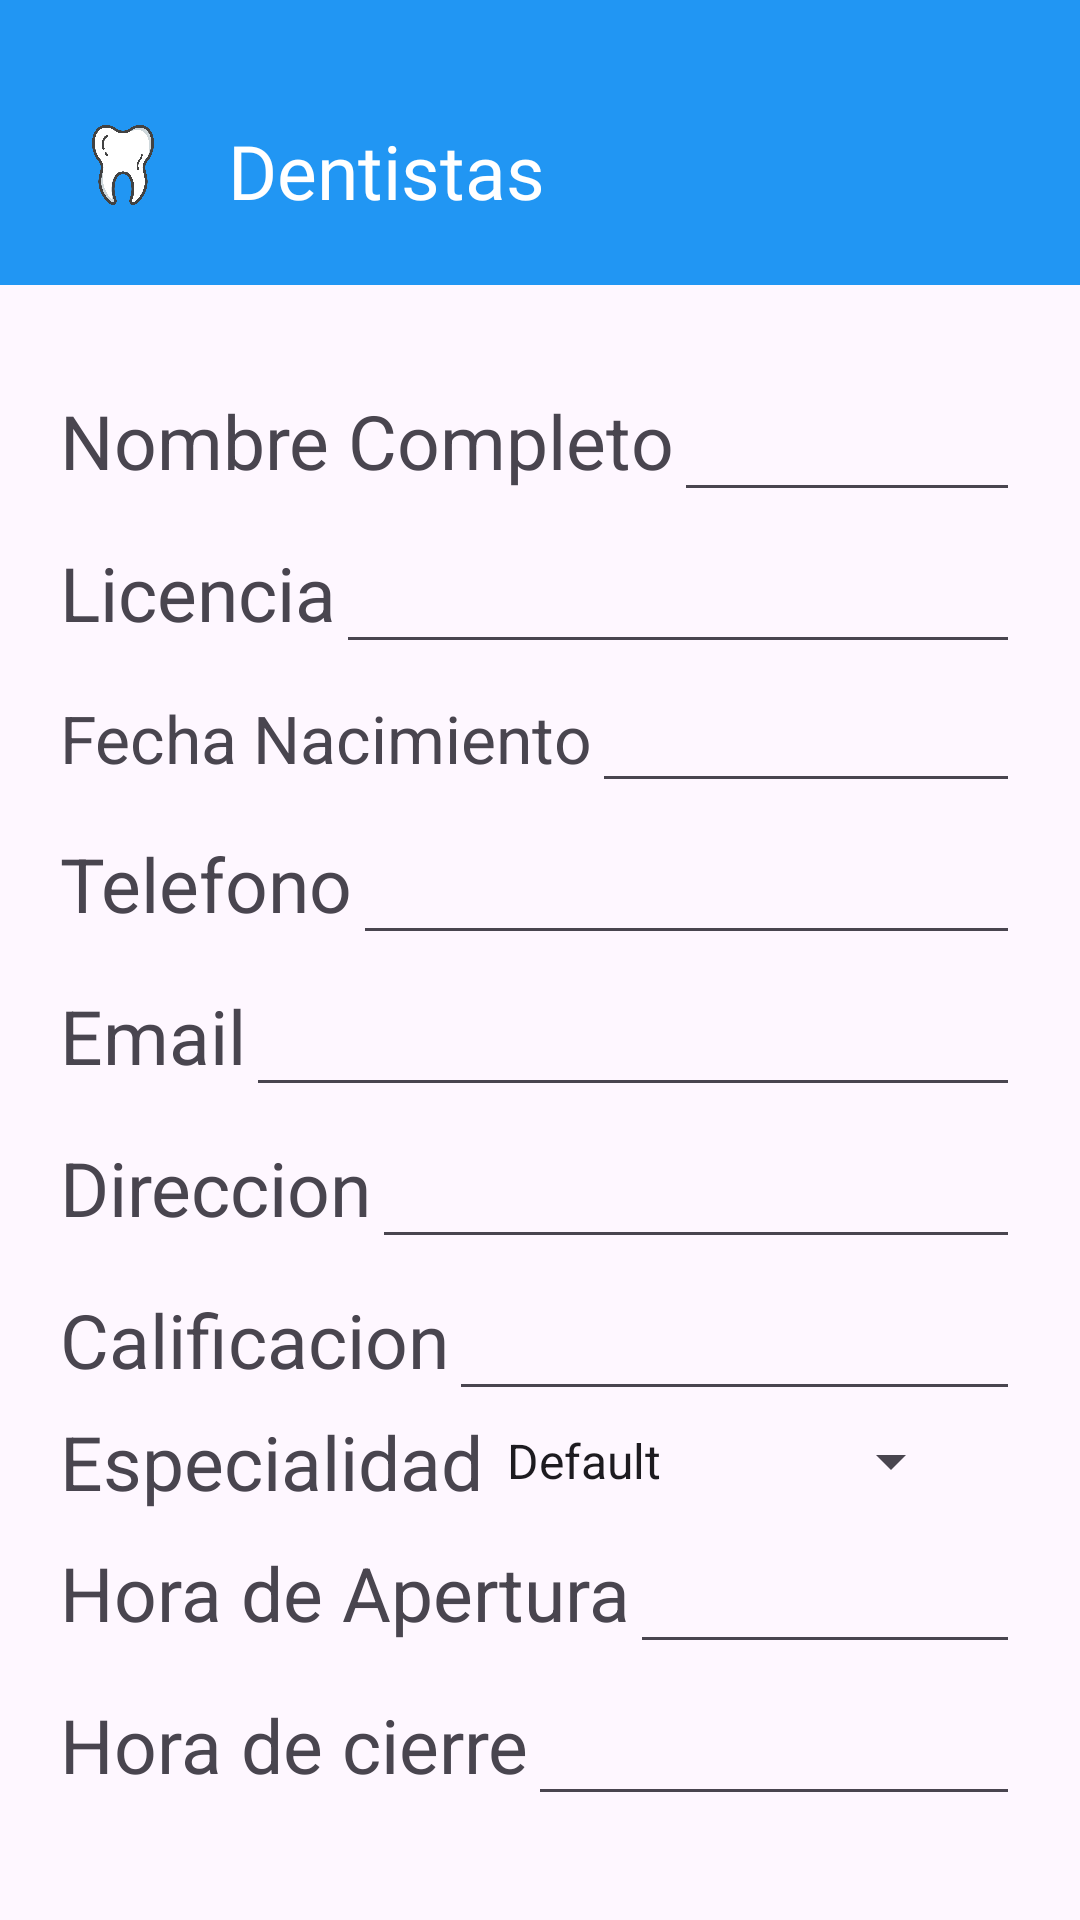

Named icons in this screenshot (1080px×1920px) and their centers, point (x, y):
diente: point (123, 165)
